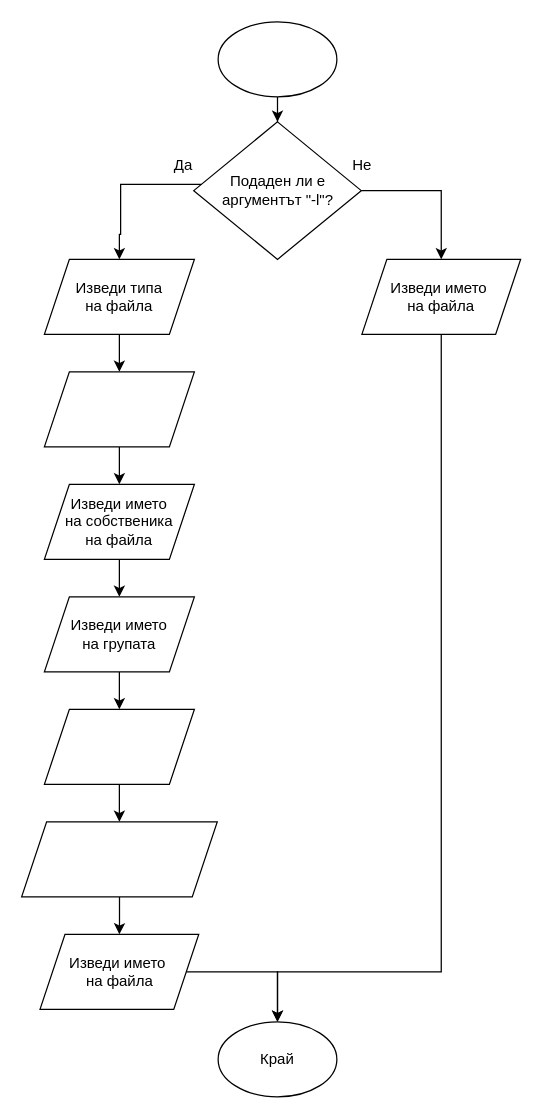
This 544x1119 diagram has some shape labels left out. Each missing label, with the box of its shape:
Изведи датата и часа на последната промяна на файла: (20, 821, 217, 897)
Изведи правата върху файла: (43, 371, 194, 447)
Изведи размера на файла: (43, 708, 194, 784)
Начало: (217, 21, 337, 97)
